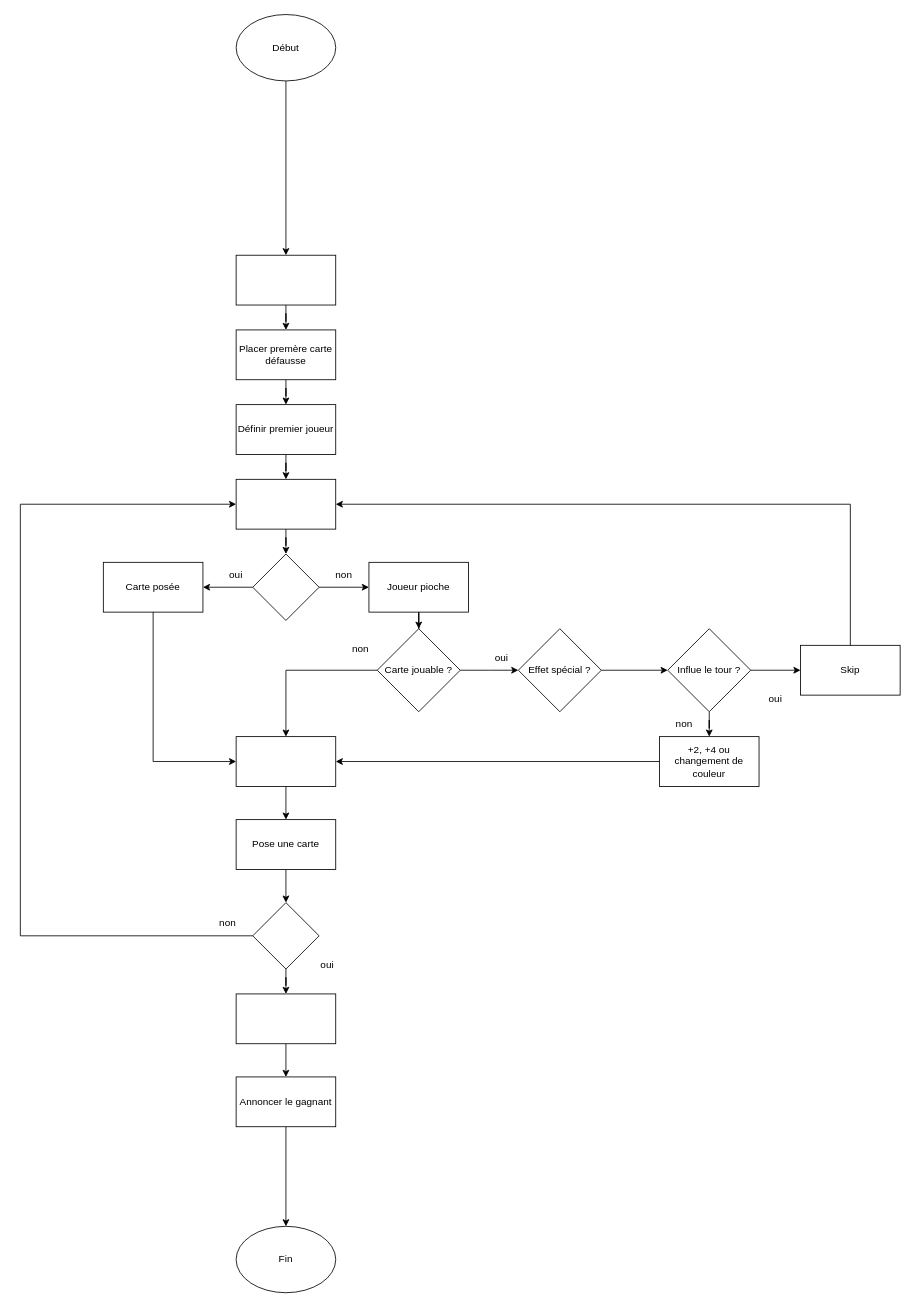
Some shapes in this 915 by 1307 pixel diagram are drawn without their labels. The box of each missing label's shape, as (x1, y1, x2, y2) in pixels:
Distribuer 7 cartes par joueurs: (235, 254, 336, 305)
Fin de partie: (235, 993, 336, 1044)
Gagné ?: (252, 902, 319, 969)
Joueur peux jouer ?: (252, 553, 319, 620)
Tour du joueur: (235, 478, 336, 529)
Tour suivant (Joueur 2): (235, 736, 336, 786)
